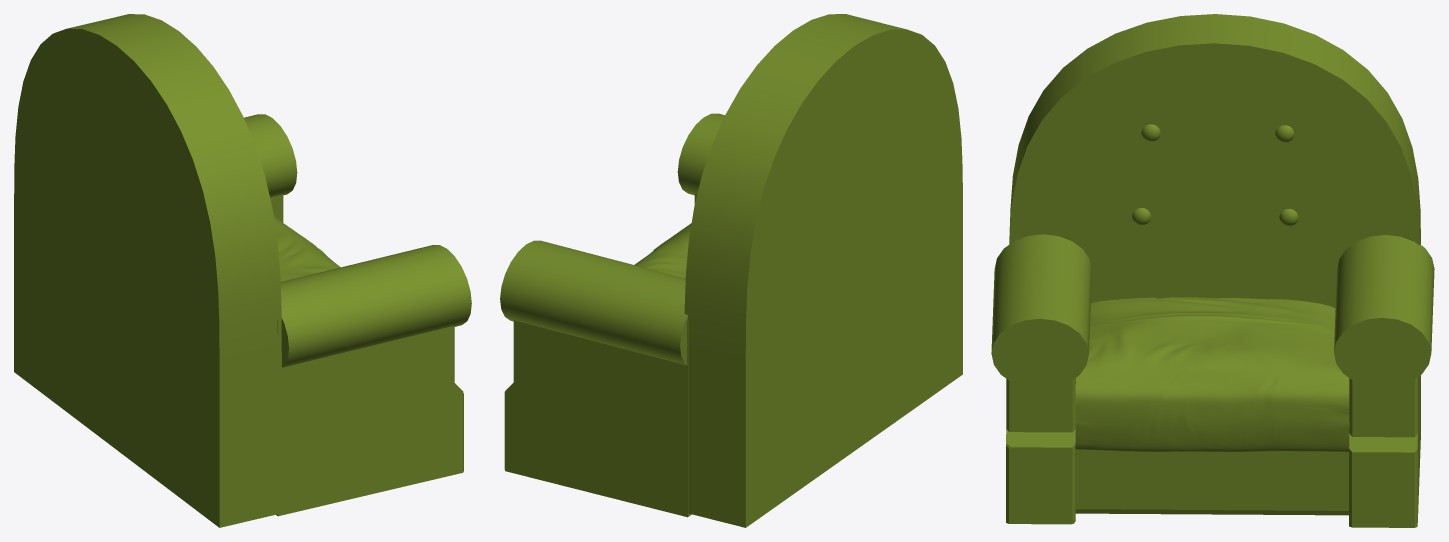
Rendered from sillon.obj.
3 renders of one model, left to right at view 1: azimuth 30°, elevation 25°; view 2: azimuth 150°, elevation 25°; view 3: azimuth 270°, elevation 25°, orthographic. The views are drawn at different scales.
Parts seen in each view (by area): view 1: dstylish02; view 2: dstylish02; view 3: dstylish02.
Part boxes in pixels (box(x1,y1,x2,y2)): dstylish02: box(14, 14, 471, 527); dstylish02: box(500, 14, 962, 527); dstylish02: box(991, 14, 1434, 527).
Size of the model in its own units: 2.34 by 3.65 by 3.69.
Materials: 1 (1 with a texture image).
